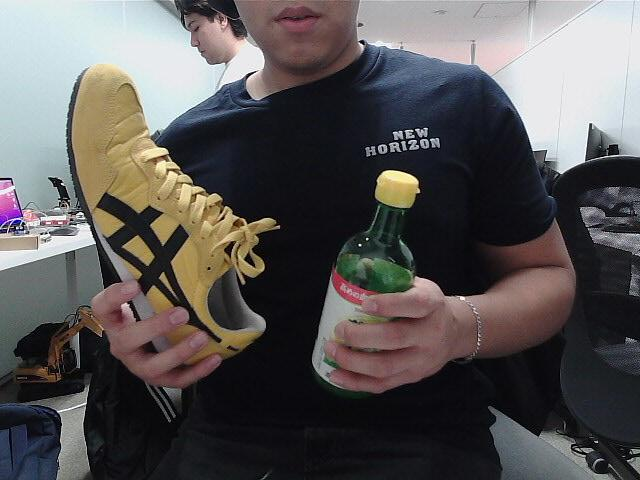Lemon_sapporo: (306, 163, 424, 400)
Shoes: (68, 62, 268, 379)
